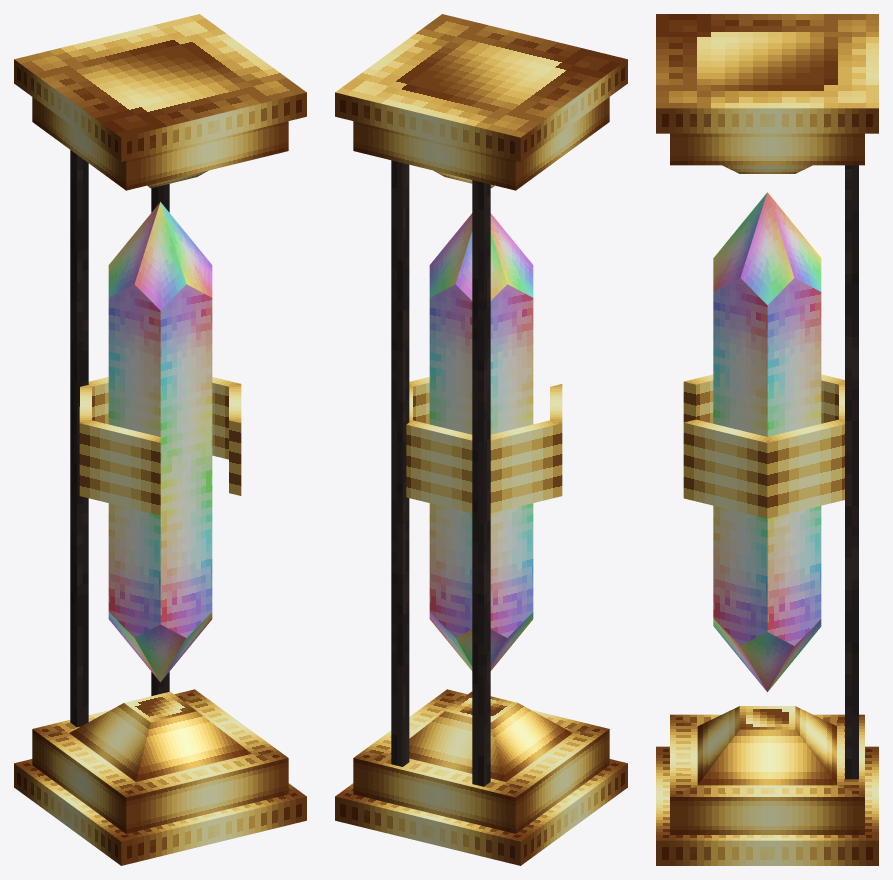
File: matrix_storage.obj
3 views of the same model, side by side, from view 1: azimuth 30°, elevation 25°; view 2: azimuth 150°, elevation 25°; view 3: azimuth 270°, elevation 25° (orthographic). The views are drawn at different scales.
Parts seen in each view (by area): view 1: Base, Crystal, Struts, Reader; view 2: Base, Crystal, Struts, Reader; view 3: Base, Crystal, Reader, Struts.
Part boxes in pixels (x1,y1,x2,y2): Base: (14, 14, 306, 865); Crystal: (108, 202, 212, 682); Struts: (70, 150, 169, 727); Reader: (79, 377, 241, 515); Base: (335, 14, 627, 865); Crystal: (429, 213, 533, 670); Struts: (391, 160, 490, 786); Reader: (406, 377, 562, 513); Base: (656, 14, 878, 865); Crystal: (713, 192, 821, 691); Reader: (683, 374, 844, 518); Struts: (845, 165, 858, 779).
Bounding box in the file's own units: 0.7874 × 2.95 × 0.7874.
